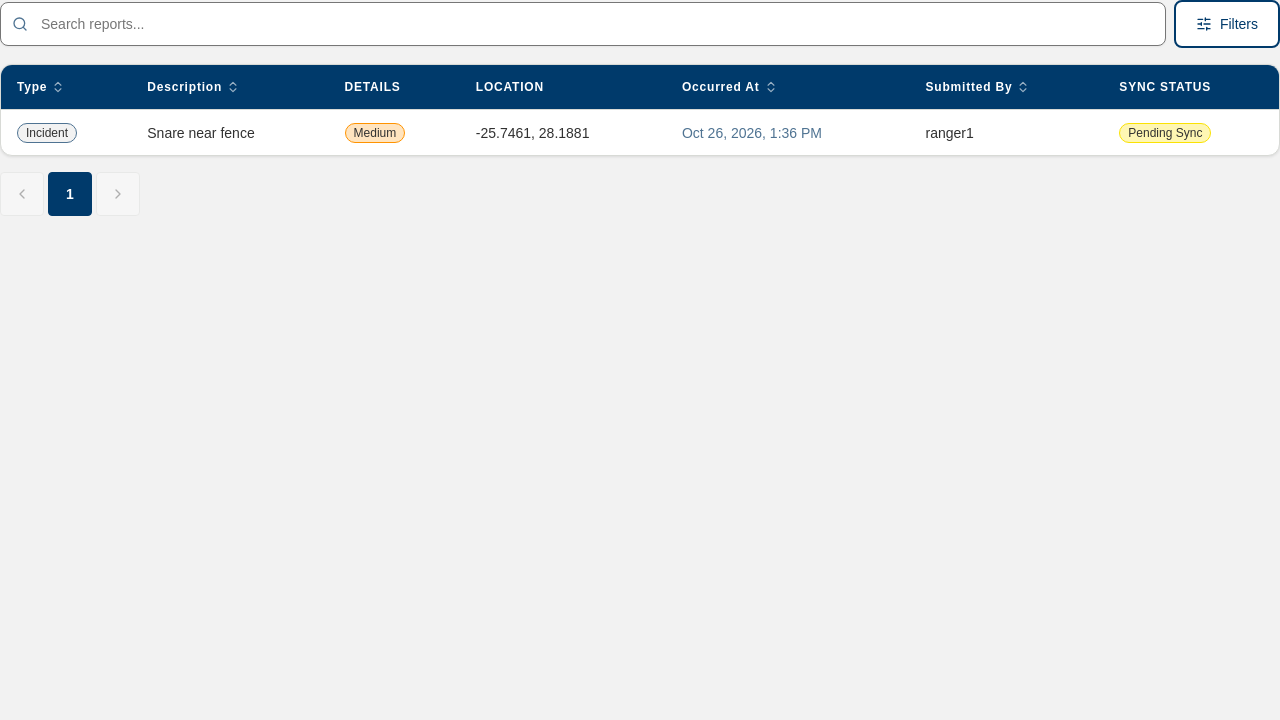
ReportList › opens the report detail dialog when a row is clicked
Click the row named "View report: Snare near fence": point(47, 133) [1,110,1279,155]
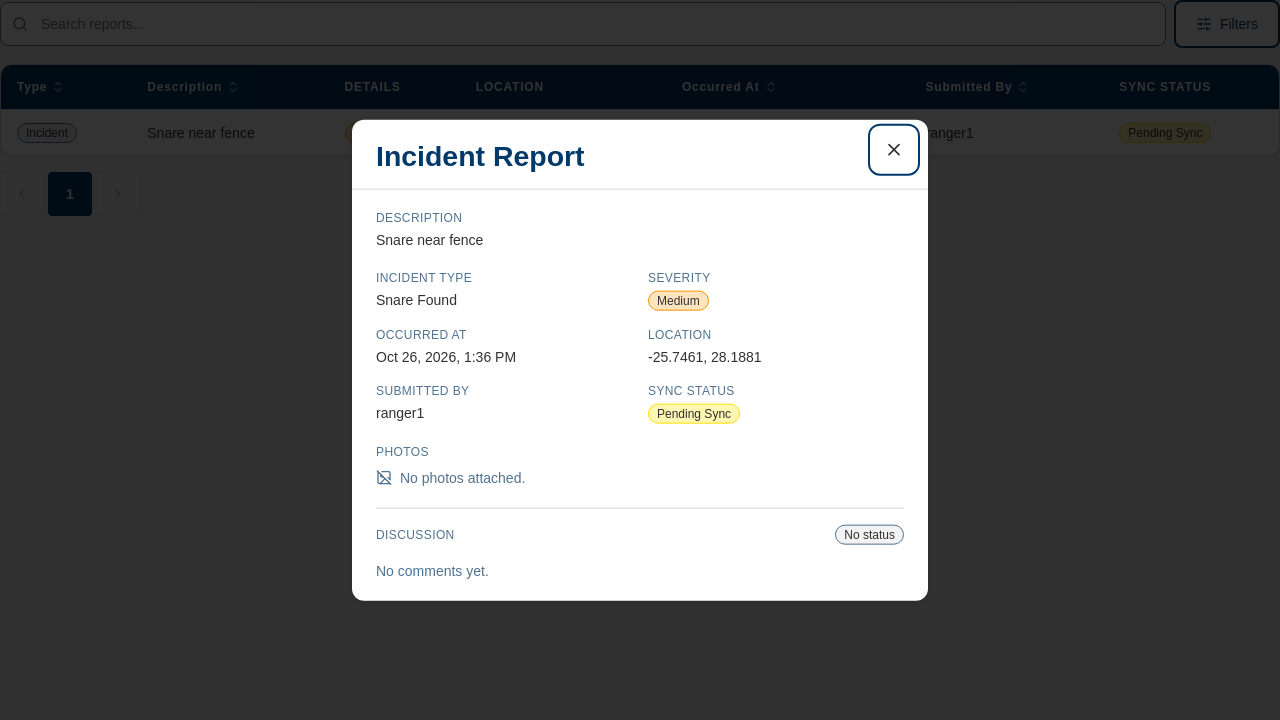
Expected: the text "Snare near fence" is shown, [376,231,483,247]
